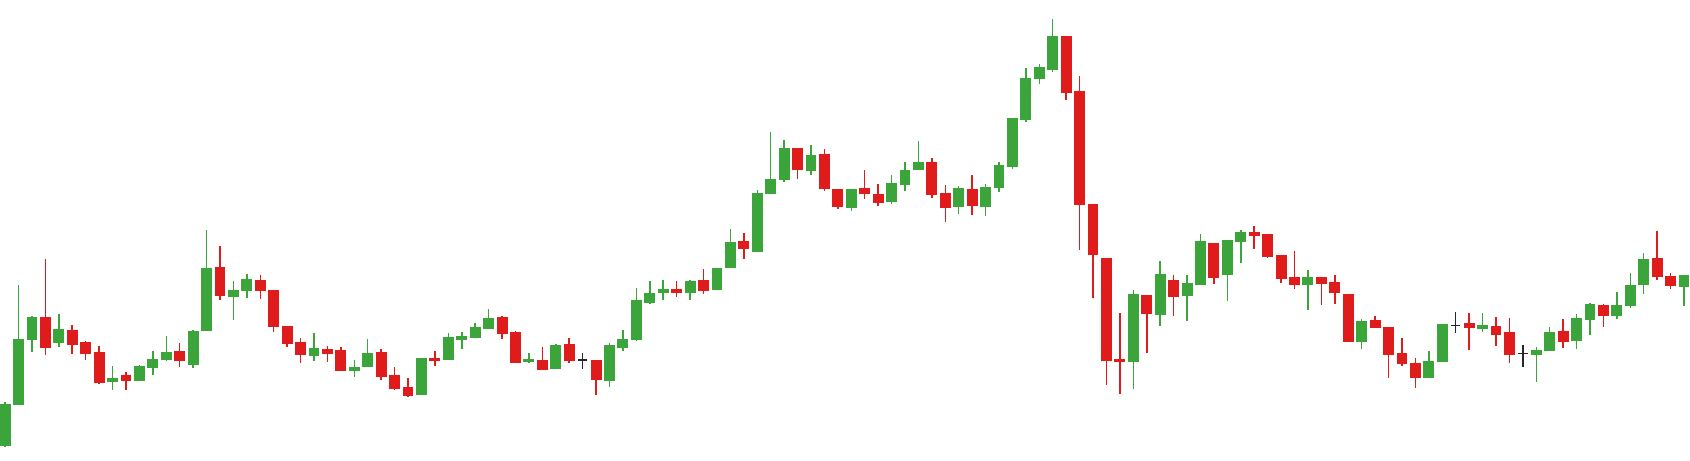buy: (831, 171, 969, 228), (537, 343, 618, 399)
